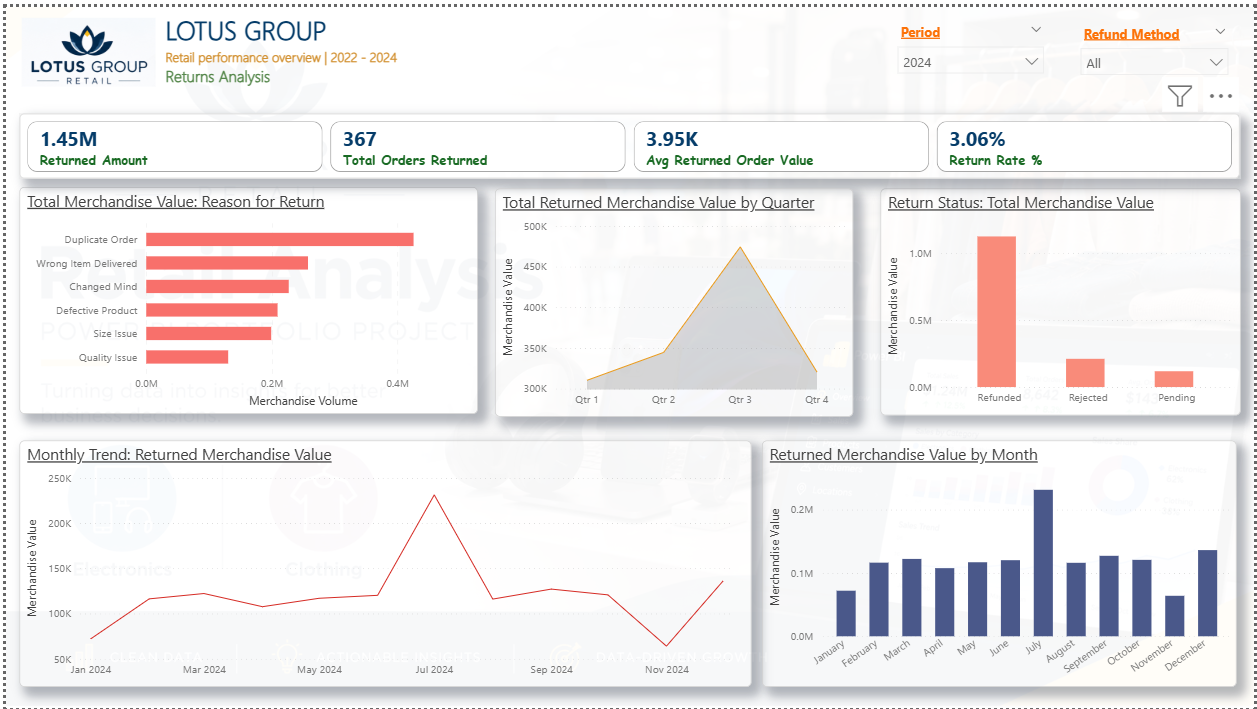

Layout of this report page (visuals, bound fields, positions):
{"tool":"powerbi","page":{"name":"Returns Analysis","canvas":[1280,720],"ordinal":6},"visuals":[{"type":"slicer","fields":{"Values":["fact_returns.return_date.Variation.Date Hierarchy.Year"]},"box":[905.2,10.6,169.9,66.4],"z":0},{"type":"textbox","box":[15.9,0,300,94.2],"z":1000},{"type":"lineChart","title":"Monthly Trend: Returned Merchandise Value","fields":{"Y":["Sum(fact_returns.return_amount)"],"Category":["fact_returns.return_date.Variation.Date Hierarchy.Year","fact_returns.return_date.Variation.Date Hierarchy.Quarter","fact_returns.return_date.Variation.Date Hierarchy.Month","fact_returns.return_date.Variation.Date Hierarchy.Day"]},"box":[14,445.1,750.6,252.8],"z":2000},{"type":"clusteredBarChart","title":"Total Merchandise Value: Reason for Return","fields":{"Category":["fact_returns.return_reason"],"Y":["Sum(fact_returns.return_amount)"]},"box":[14,184.6,469.9,232.6],"z":3000},{"type":"clusteredColumnChart","title":"Return Status: Total Merchandise Value","fields":{"Category":["fact_returns.return_status"],"Y":["Sum(fact_returns.return_amount)"]},"box":[896.4,186.1,369.1,232.6],"z":4000},{"type":"cardVisual","fields":{"Data":["_Measures.Returned Amount","_Measures.Total Orders Returned","_Measures.Avg Returned Order Value","_Measures.Return Rate %"]},"box":[14,108.6,1251.6,66.7],"z":5000},{"type":"clusteredColumnChart","title":"Returned Merchandise Value by Month","fields":{"Y":["_Measures.Returned Amount"],"Category":["fact_returns.return_date.Variation.Date Hierarchy.Month"]},"box":[775.4,445.1,487,252.8],"z":6000},{"type":"areaChart","title":"Total Returned Merchandise Value by Quarter","fields":{"Category":["fact_returns.return_date.Variation.Date Hierarchy.Quarter"],"Y":["Sum(fact_returns.return_amount)"]},"box":[500.9,186.1,367.6,234.2],"z":7000},{"type":"slicer","fields":{"Values":["fact_returns.refund_method"]},"box":[1092.4,11.9,171.2,61.1],"z":7001}]}

Visuals, with their boxes in screenshot pixels (x1, y1, x2, y2), scaled from the page's 1280x720 canvas onto the 1257x709 screenshot:
slicer - fact_returns.return_date.Variation.Date Hierarchy.Year: <box>889,10,1056,76</box>
textbox: <box>16,0,310,93</box>
"Monthly Trend: Returned Merchandise Value" lineChart: <box>14,438,751,687</box>
"Total Merchandise Value: Reason for Return" clusteredBarChart: <box>14,182,475,411</box>
"Return Status: Total Merchandise Value" clusteredColumnChart: <box>880,183,1243,412</box>
cardVisual - _Measures.Returned Amount x _Measures.Total Orders Returned: <box>14,107,1243,173</box>
"Returned Merchandise Value by Month" clusteredColumnChart: <box>761,438,1240,687</box>
"Total Returned Merchandise Value by Quarter" areaChart: <box>492,183,853,414</box>
slicer - fact_returns.refund_method: <box>1073,12,1241,72</box>
